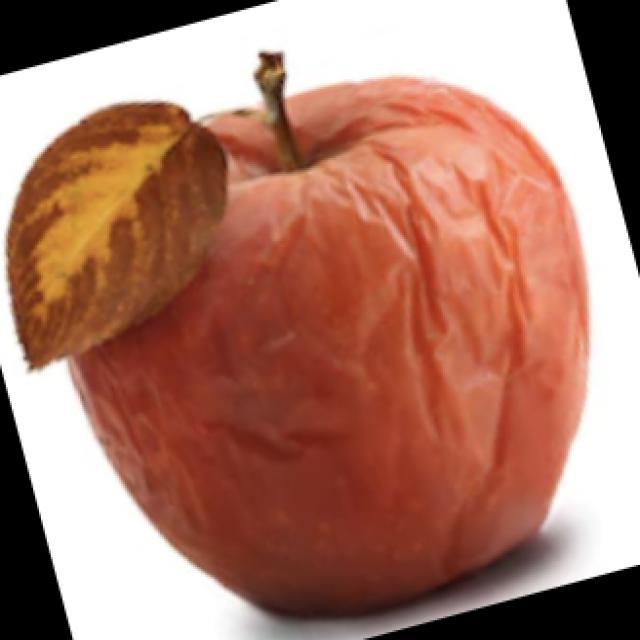Rotten: (78, 70, 575, 640)
